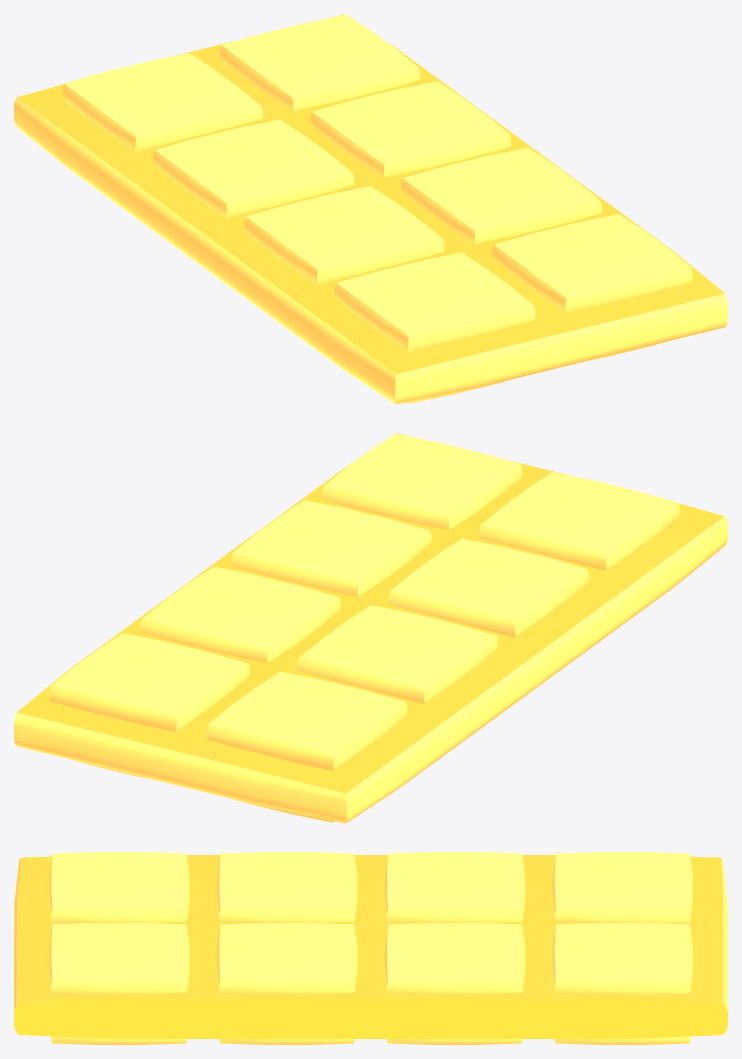
3 renders of one model, top to bottom at view 1: azimuth 30°, elevation 25°; view 2: azimuth 150°, elevation 25°; view 3: azimuth 270°, elevation 25°, orthographic. The views are drawn at different scales.
Visible parts, largest first — view 1: Wafer-left; view 2: Wafer-left; view 3: Wafer-left.
Boxes of the visible parts, x1,y1,x2,y2 form: Wafer-left: [14, 14, 727, 404]; Wafer-left: [14, 433, 727, 823]; Wafer-left: [14, 852, 727, 1044].
Bounding box in the file's own units: 0.5472 × 0.1167 × 1.09.
